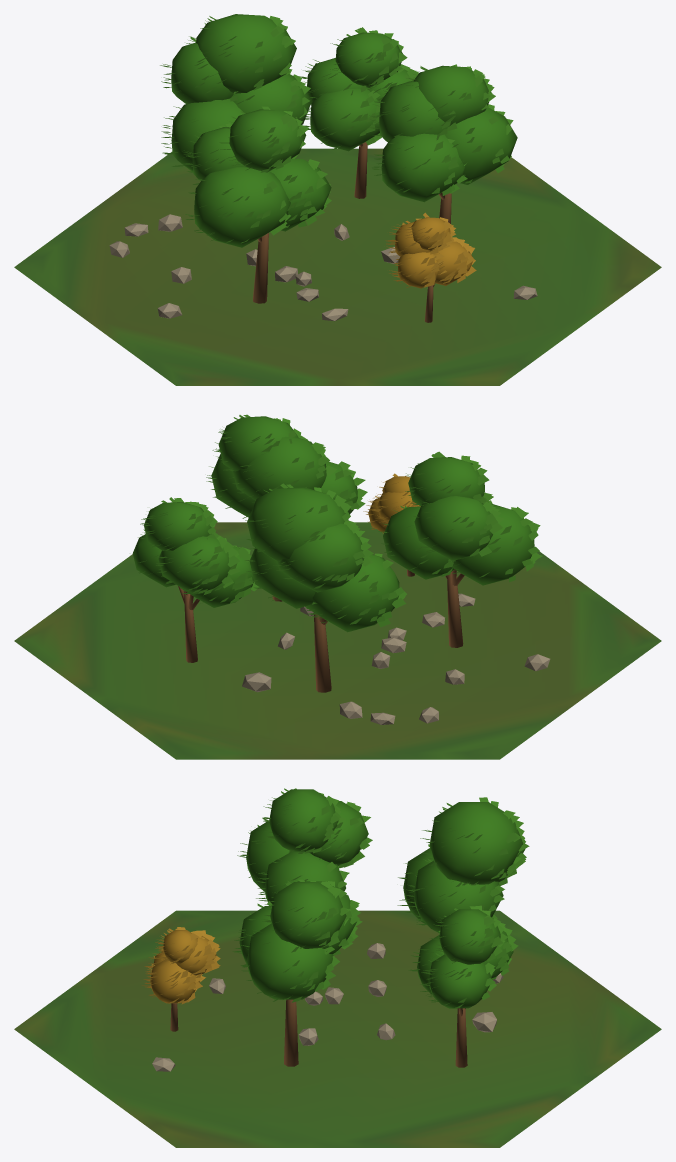
The model's file is SM_Terreno_Bosque_LOD1.fbx.
3 renders of one model, top to bottom at view 1: azimuth 30°, elevation 25°; view 2: azimuth 150°, elevation 25°; view 3: azimuth 270°, elevation 25°, orthographic.
Visible parts, largest first — view 1: SM_Terreno_Bosque_LOD1; view 2: SM_Terreno_Bosque_LOD1; view 3: SM_Terreno_Bosque_LOD1.
Part boxes in pixels (<box>): SM_Terreno_Bosque_LOD1: <box>14,14,661,385</box>; SM_Terreno_Bosque_LOD1: <box>14,414,661,759</box>; SM_Terreno_Bosque_LOD1: <box>14,788,661,1147</box>.
Bounding box in the file's own units: 173 × 71.31 × 200.
